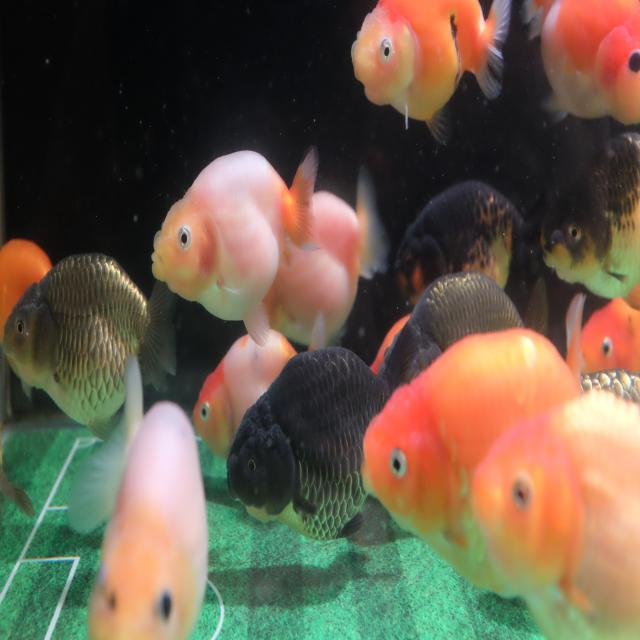Goldfish: (360, 296, 586, 603), (225, 322, 418, 544), (470, 389, 640, 640), (64, 350, 208, 640), (1, 251, 177, 443), (150, 139, 321, 325), (244, 159, 390, 346), (349, 0, 511, 149), (392, 178, 540, 306), (539, 136, 640, 299), (521, 0, 640, 128), (190, 328, 298, 463)
